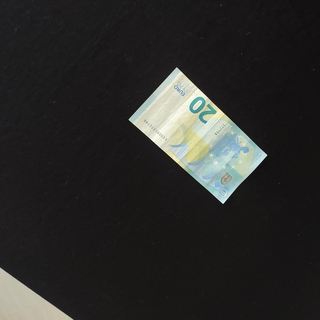20EUROBack: (128, 67, 267, 204)
